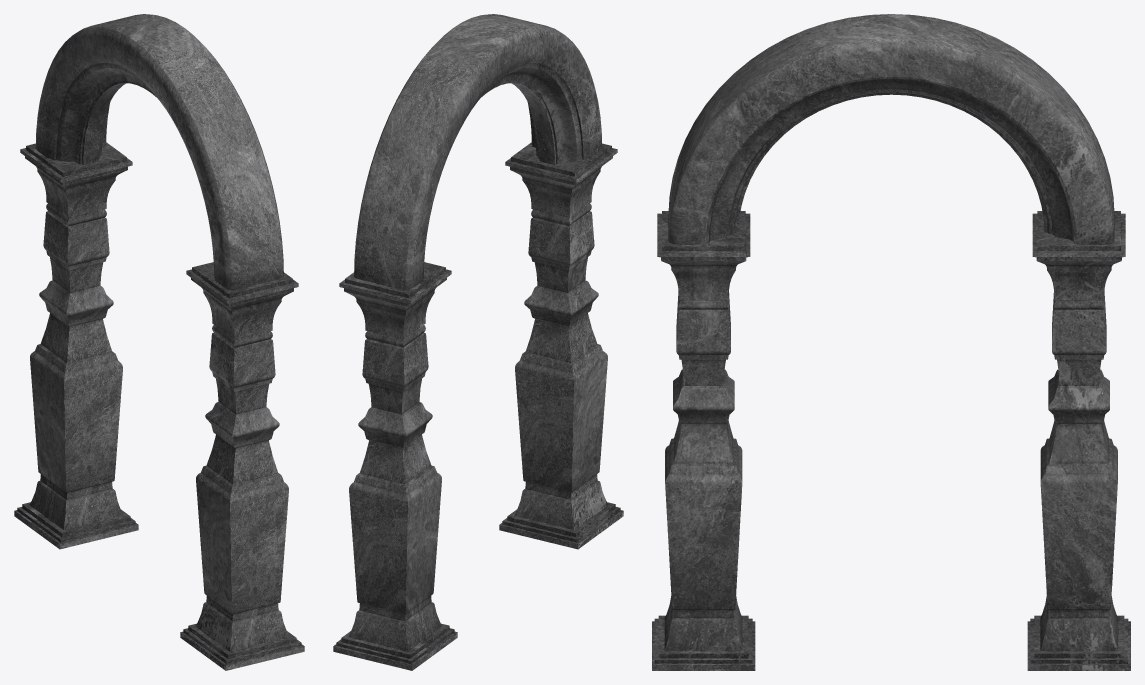
File: multi_column_model.glb
3 views of the same model, side by side, from view 1: azimuth 30°, elevation 25°; view 2: azimuth 150°, elevation 25°; view 3: azimuth 270°, elevation 25° (orthographic). The views are drawn at different scales.
Visible parts, largest first — view 1: Archway_0; view 2: Archway_0; view 3: Archway_0.
Boxes of the visible parts, left/top/right/bottom form: Archway_0: left=14, top=14, right=304, bottom=670; Archway_0: left=333, top=14, right=623, bottom=670; Archway_0: left=652, top=14, right=1130, bottom=670.
Bounding box in the file's own units: 5 × 33.33 × 23.22.
1 material, 1 textured.
